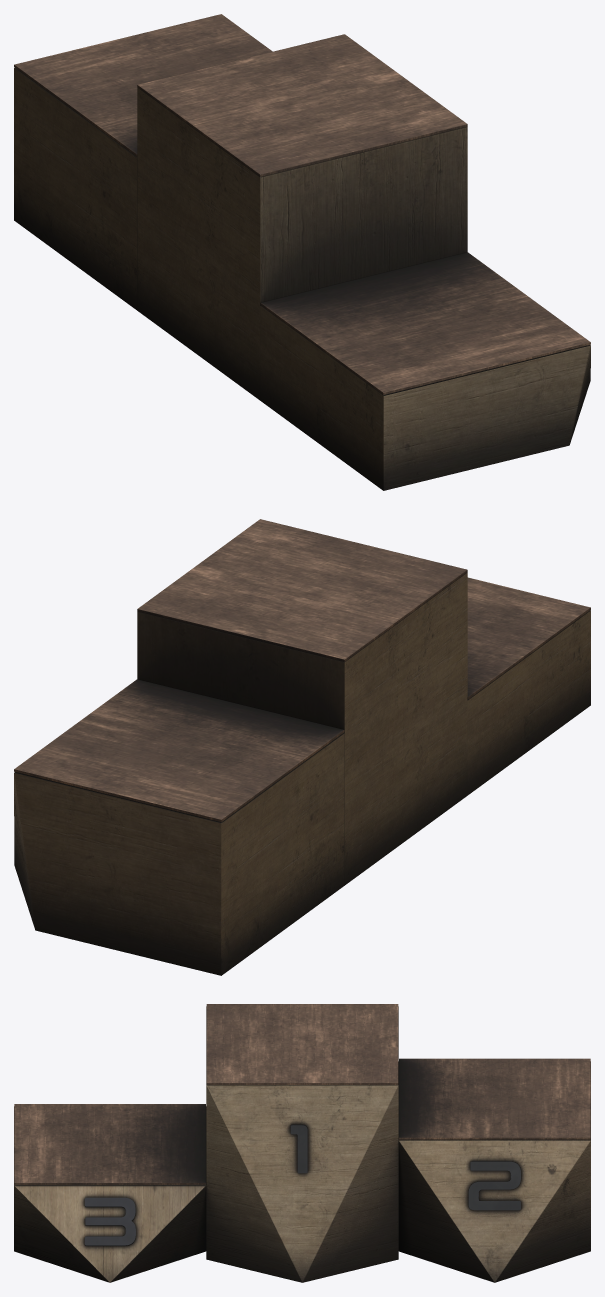
File: podium.glb
3 views of the same model, one above another, from view 1: azimuth 30°, elevation 25°; view 2: azimuth 150°, elevation 25°; view 3: azimuth 270°, elevation 25° (orthographic). The views are drawn at different scales.
Visible parts, largest first — view 1: Material0-material, Material1-material; view 2: Material0-material, Material1-material; view 3: Material0-material, Material1-material, Material3-material.
Boxes of the visible parts, <box> form: Material0-material: <box>14,67,590,490</box>; Material1-material: <box>14,14,590,395</box>; Material0-material: <box>14,572,590,975</box>; Material1-material: <box>14,519,590,822</box>; Material0-material: <box>14,1006,590,1282</box>; Material1-material: <box>14,1004,590,1184</box>; Material3-material: <box>84,1124,520,1245</box>.
Size of what is drawn, in the model's own units: 2.77 by 2.23 by 6.61.
Materials: 3 (3 with a texture image).
